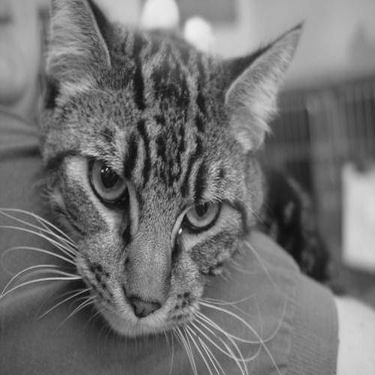cat: (3, 5, 308, 368)
